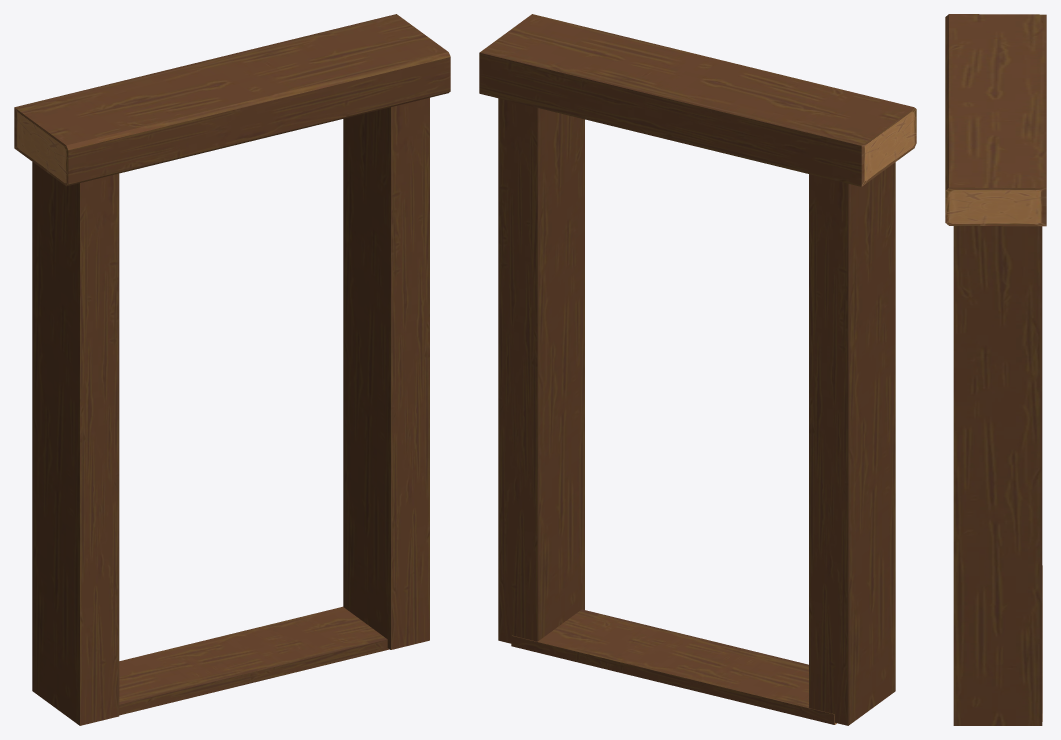
Rendered from DoorFrame_Flat_WoodDark.glb.
3 renders of one model, left to right at view 1: azimuth 30°, elevation 25°; view 2: azimuth 150°, elevation 25°; view 3: azimuth 270°, elevation 25°, orthographic. The views are drawn at different scales.
Parts seen in each view (by area): view 1: DoorFrame_Flat_WoodDark; view 2: DoorFrame_Flat_WoodDark; view 3: DoorFrame_Flat_WoodDark.
Part boxes in pixels (left/top/right/bottom): DoorFrame_Flat_WoodDark: left=14, top=14, right=450, bottom=725; DoorFrame_Flat_WoodDark: left=479, top=14, right=916, bottom=725; DoorFrame_Flat_WoodDark: left=945, top=14, right=1046, bottom=725.
Bounding box in the file's own units: 1.57 × 2.31 × 0.3884.
Materials: 1 (1 with a texture image).
